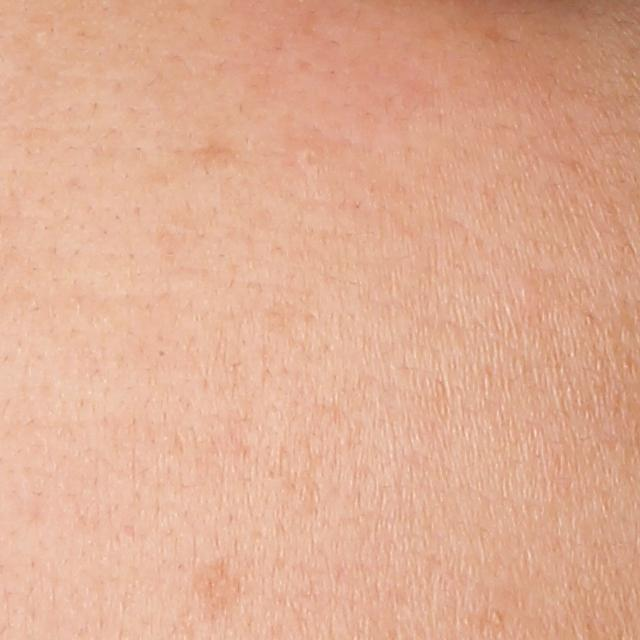comedo: (298, 147, 321, 171)
